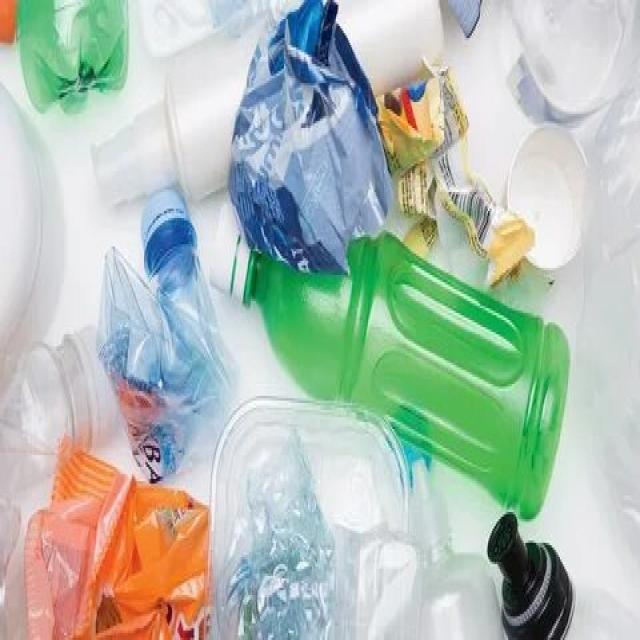blue: (94, 221, 236, 480)
green: (246, 231, 570, 518)
